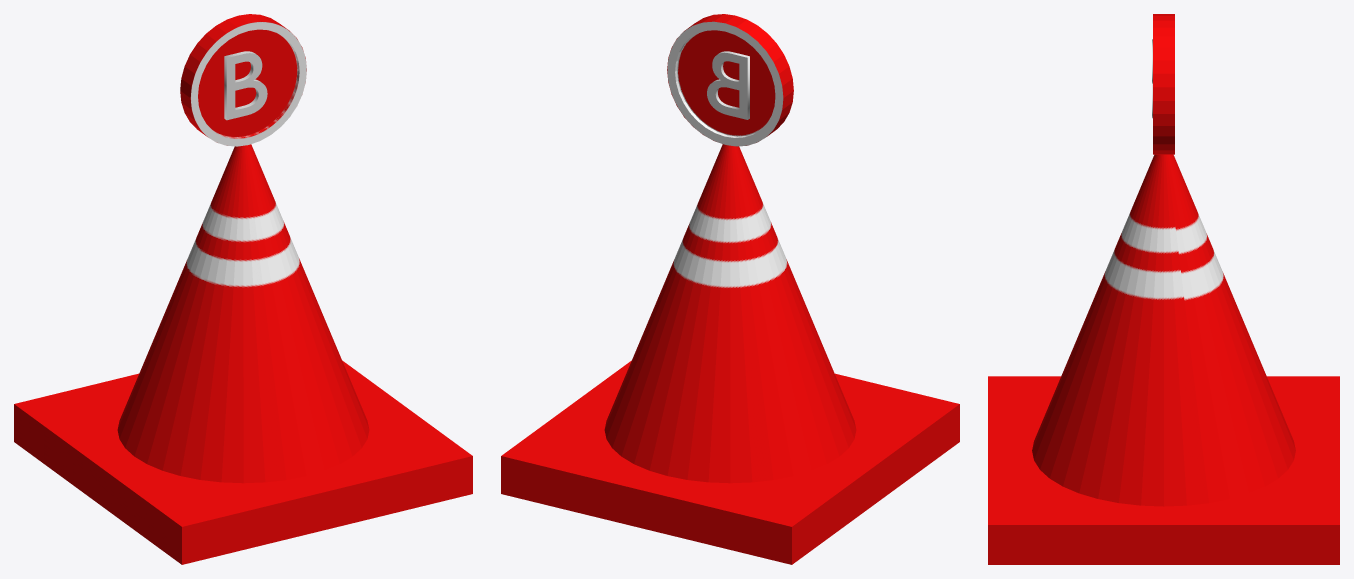
The model's file is cone_with_coin_B_edge.dae.
3 renders of one model, left to right at view 1: azimuth 30°, elevation 25°; view 2: azimuth 150°, elevation 25°; view 3: azimuth 270°, elevation 25°, orthographic. The views are drawn at different scales.
Visible parts, largest first — view 1: Sankaku_Cone, Cylinder, B; view 2: Sankaku_Cone, Cylinder, B; view 3: Sankaku_Cone, Cylinder.
Boxes of the visible parts, box(x1,y1,x2,y2) form: Sankaku_Cone: box(14, 144, 472, 564); Cylinder: box(180, 14, 306, 146); B: box(224, 51, 267, 120); Sankaku_Cone: box(501, 144, 959, 564); Cylinder: box(667, 14, 793, 146); B: box(707, 51, 749, 119); Sankaku_Cone: box(988, 154, 1339, 564); Cylinder: box(1153, 14, 1174, 154).
Size of the model in its own units: 0.4 by 0.4 by 0.5896.
Materials: 2 (2 with a texture image).
